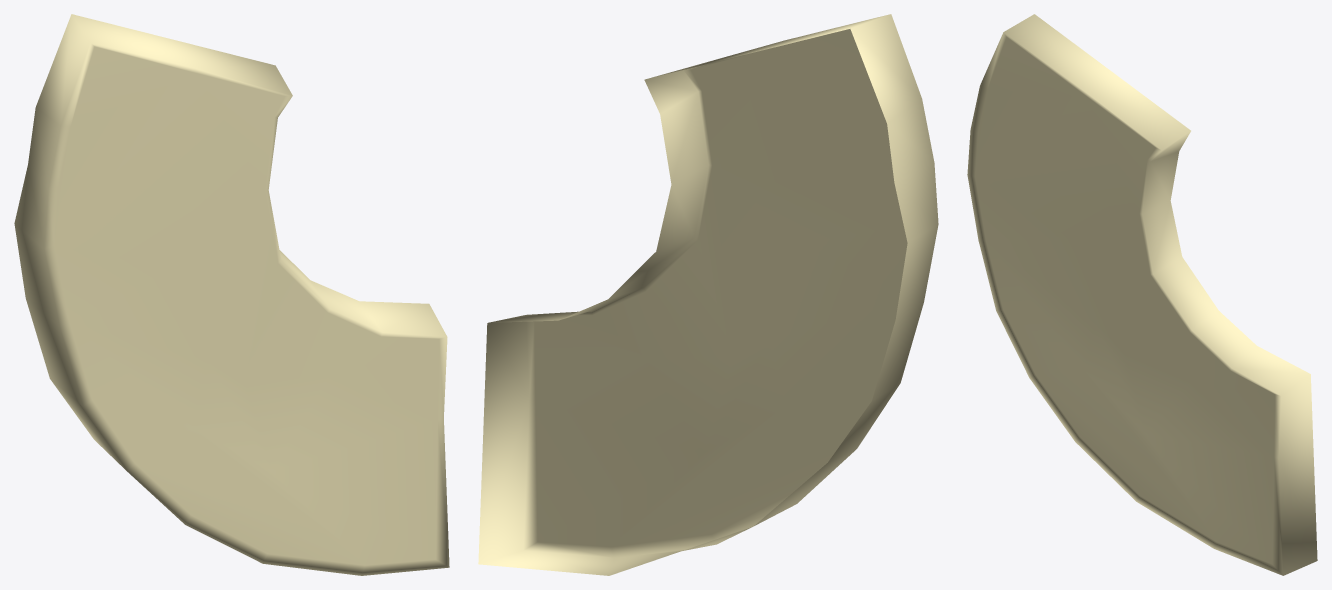
File: ui_radialMenu_3_left.glb
The picture shows the model from 3 angles, left to right: view 1: azimuth 30°, elevation 25°; view 2: azimuth 150°, elevation 25°; view 3: azimuth 330°, elevation 25°; orthographic projection. The views are drawn at different scales.
Visible parts, largest first — view 1: main3_left; view 2: main3_left; view 3: main3_left.
Part boxes in pixels (x1,y1,x2,y2): main3_left: (14,14,449,575); main3_left: (478,14,938,575); main3_left: (967,14,1317,575).
Bounding box in the file's own units: 1.03 × 1.45 × 0.1341.
